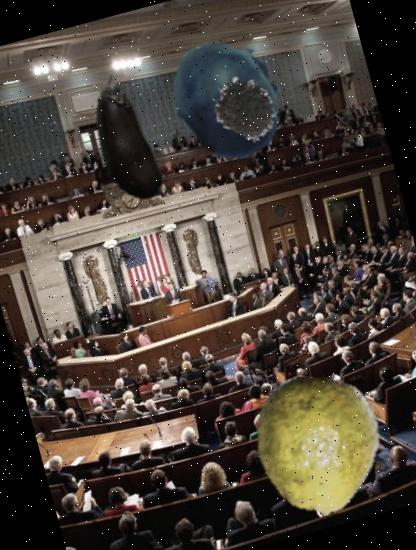Eggplant: (44, 63, 204, 222)
Guava: (233, 361, 402, 531)
Huckleberry: (155, 23, 304, 172)
Rambutan: (200, 63, 292, 155)
